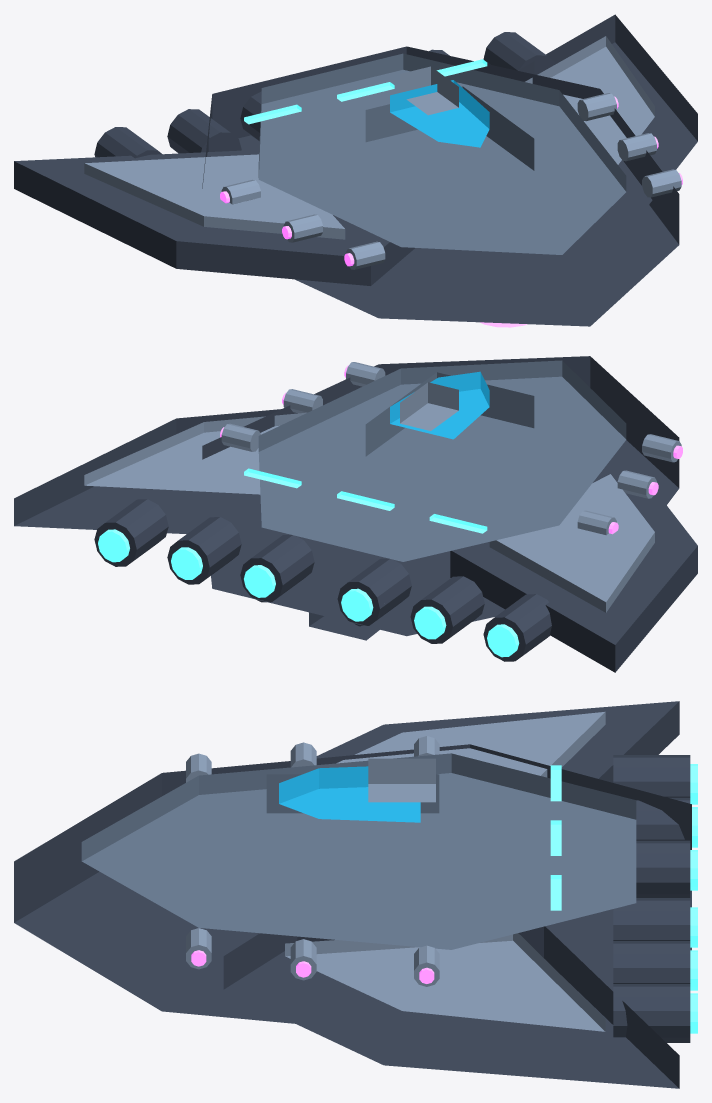
The model's file is mothership.gltf.
3 views of the same model, one above another, from view 1: azimuth 30°, elevation 25°; view 2: azimuth 150°, elevation 25°; view 3: azimuth 270°, elevation 25° (orthographic). The views are drawn at different scales.
Parts seen in each view (by area): view 1: StarfallMothership_root; view 2: StarfallMothership_root; view 3: StarfallMothership_root.
Boxes of the visible parts, x1,y1,x2,y2 form: StarfallMothership_root: (14, 14, 697, 327); StarfallMothership_root: (14, 356, 697, 672); StarfallMothership_root: (14, 701, 697, 1088).
Size of the model in its own units: 13.6 by 4.07 by 11.1.
